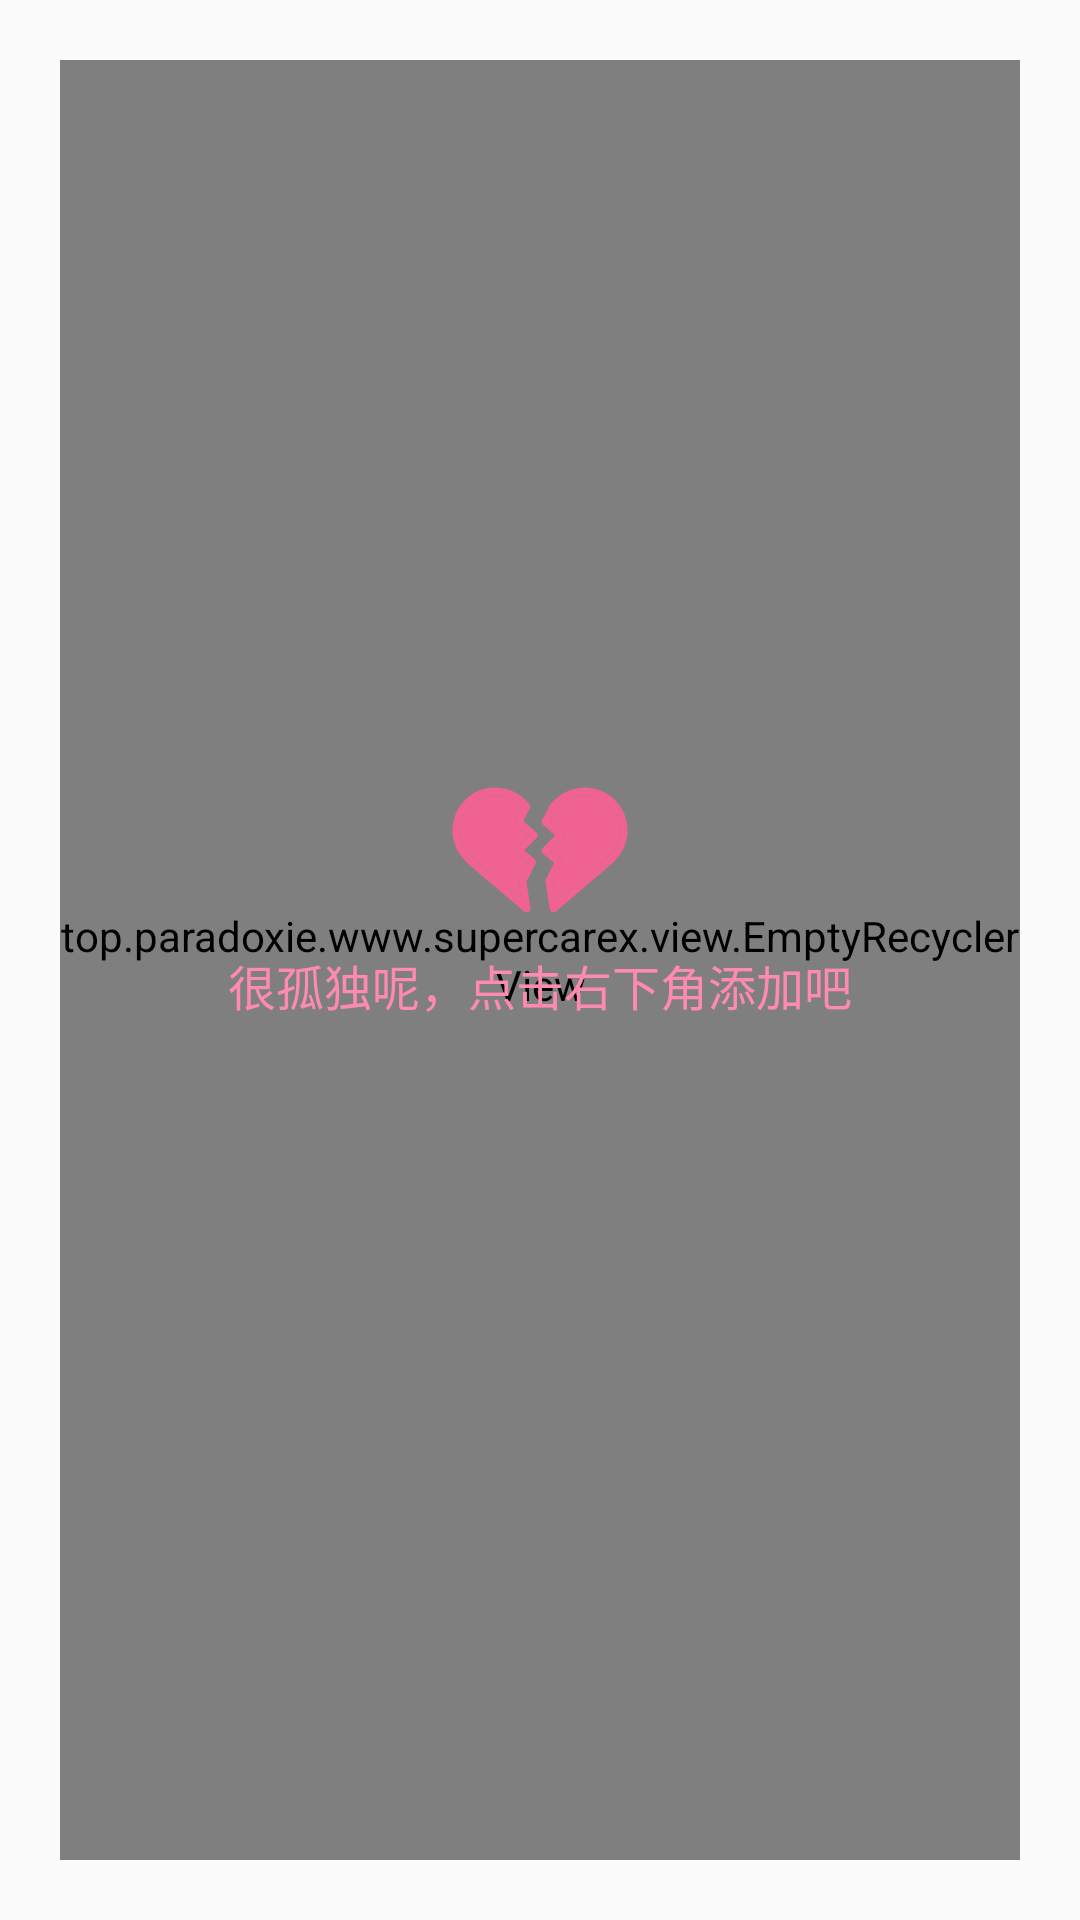

Icons on this 1080px x 1920px Android screen, each with the point to tap as (x,y):
heart un: (538,868)
